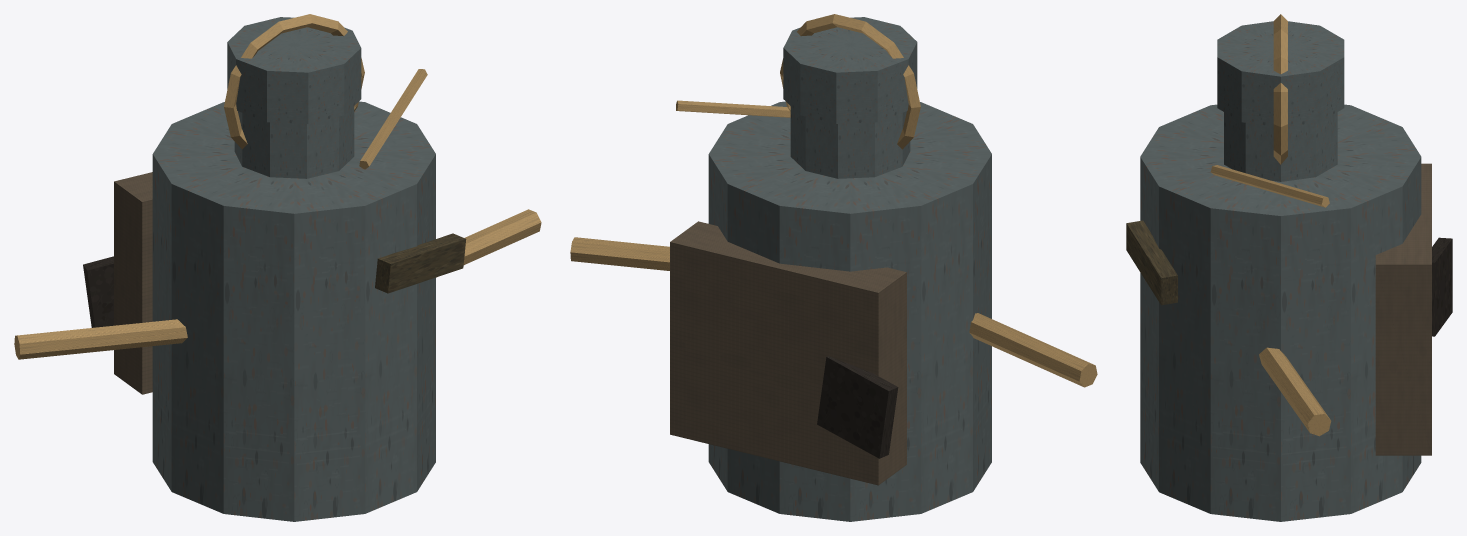
File: pr-007_metal_canteen__empty.obj
3 renders of one model, left to right at view 1: azimuth 30°, elevation 25°; view 2: azimuth 150°, elevation 25°; view 3: azimuth 270°, elevation 25°, orthographic.
Parts seen in each view (by area): view 1: pr-007_metal_canteen__empty; view 2: pr-007_metal_canteen__empty; view 3: pr-007_metal_canteen__empty.
Boxes of the visible parts, left/top/right/bottom form: pr-007_metal_canteen__empty: left=14, top=14, right=541, bottom=521; pr-007_metal_canteen__empty: left=570, top=14, right=1097, bottom=521; pr-007_metal_canteen__empty: left=1126, top=14, right=1452, bottom=521.
Bounding box in the file's own units: 0.85 × 0.6921 × 0.4639.
5 materials, 5 textured.
